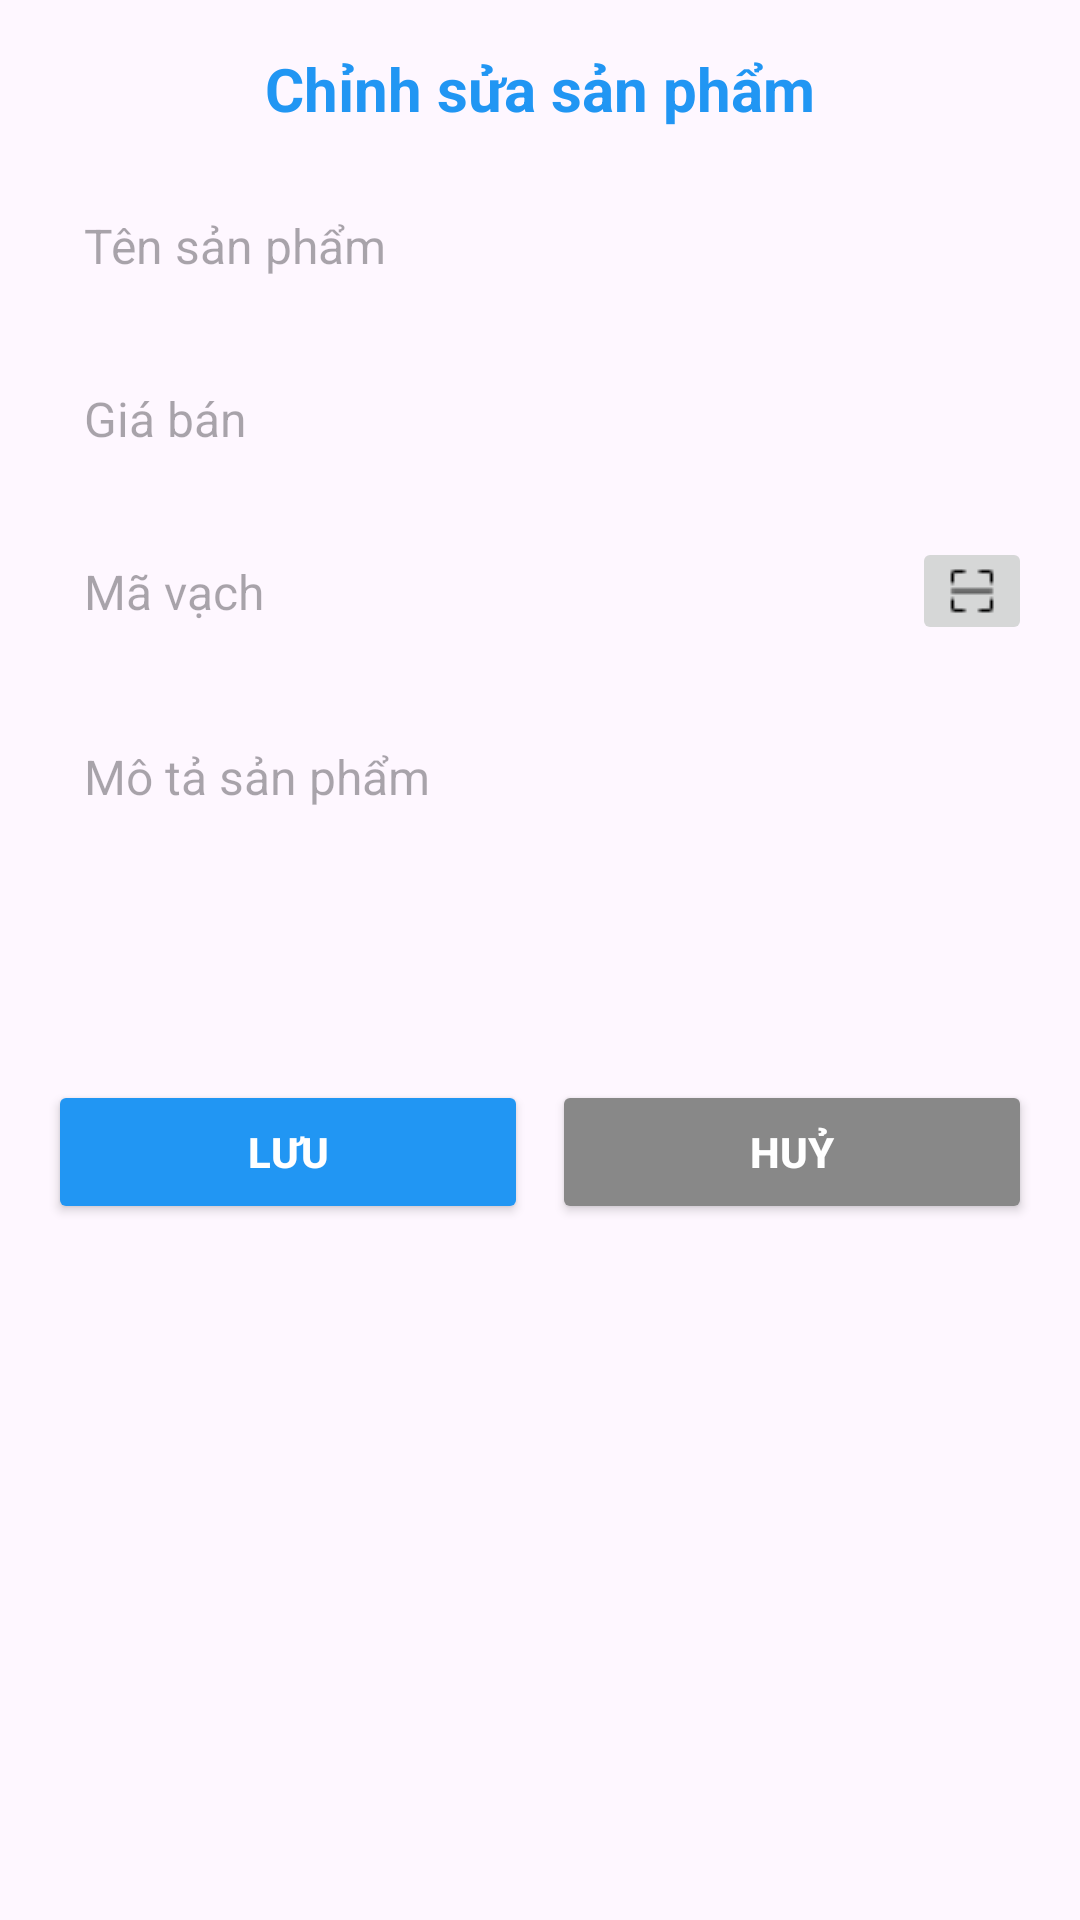

Screen size 1080 x 1920. Icon name, then its center in pixels as (x=x, y=y):
scanner: (x=972, y=591)
